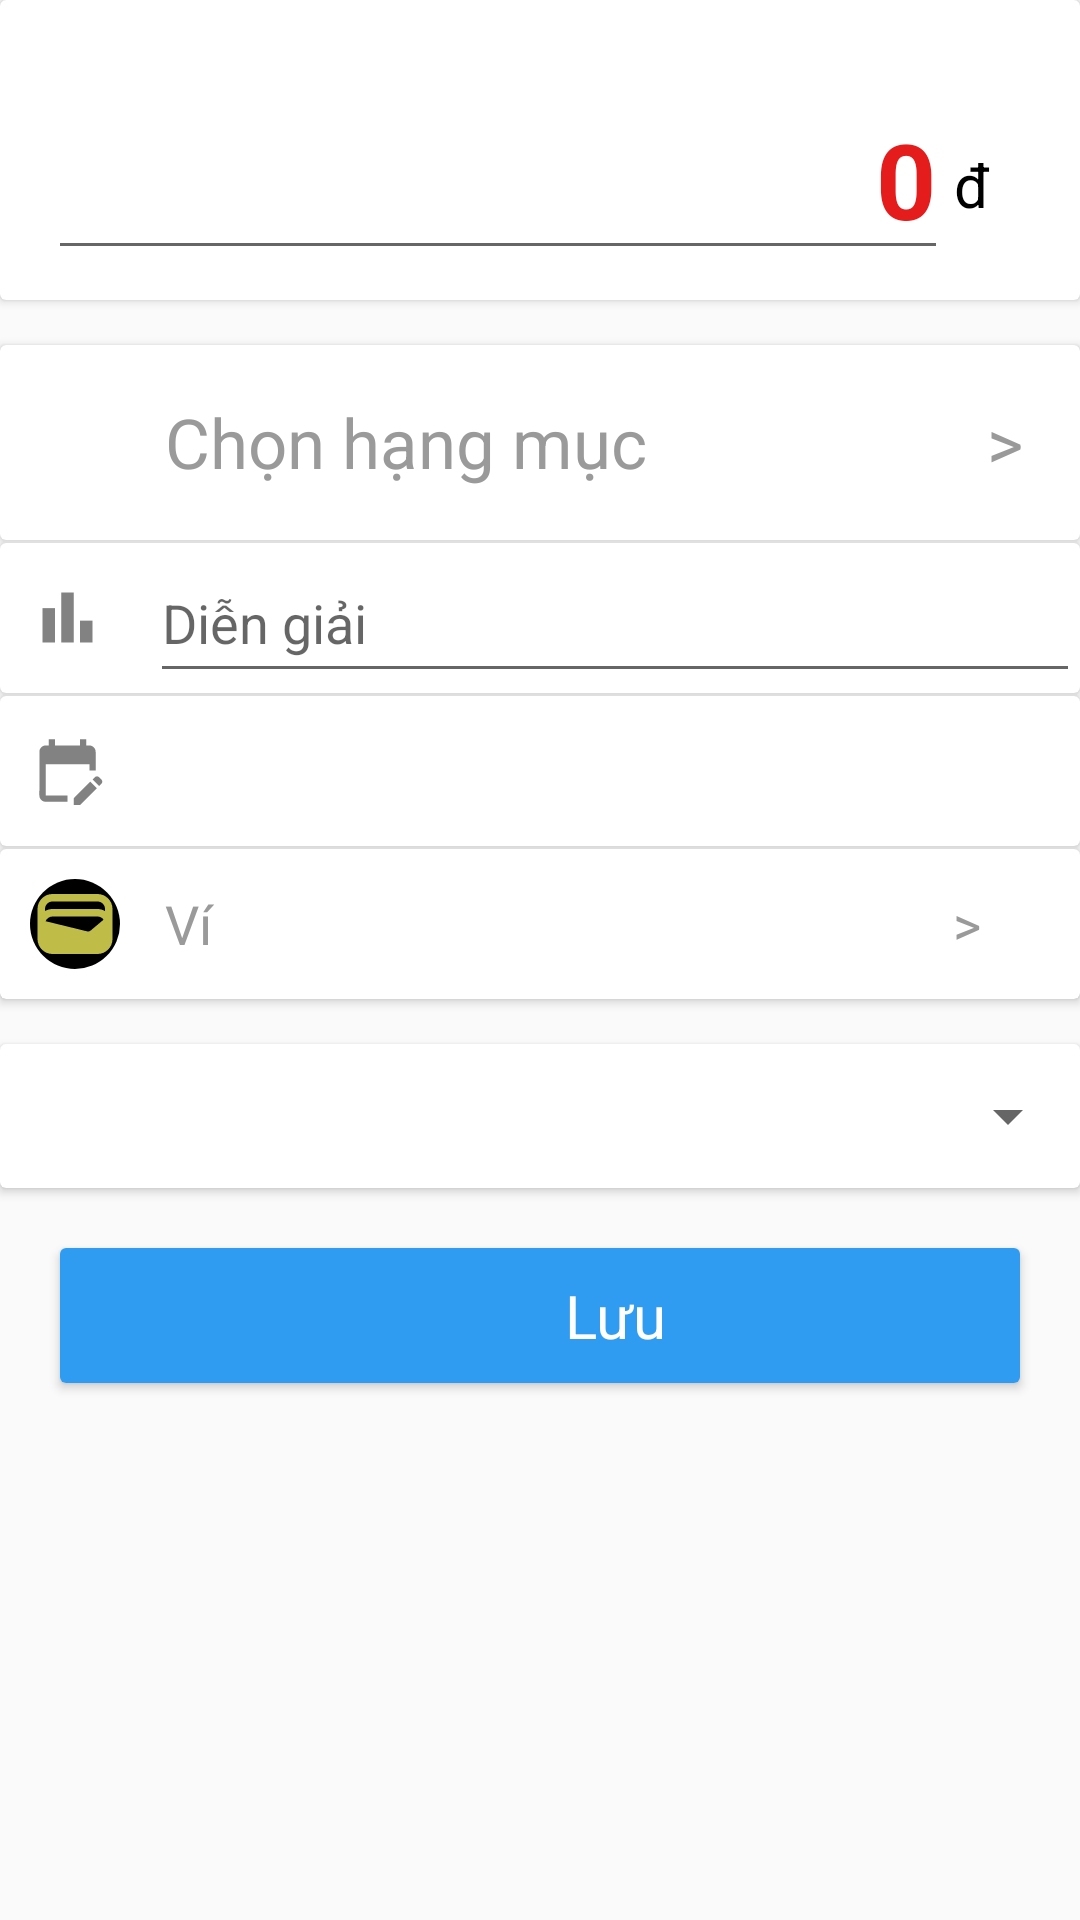

Icons on this 1080px×1920px Android screen, each with the point to tap as [x,y]:
bar chart: [67,617]
edit calendar: [71,772]
wallet: [75,924]
